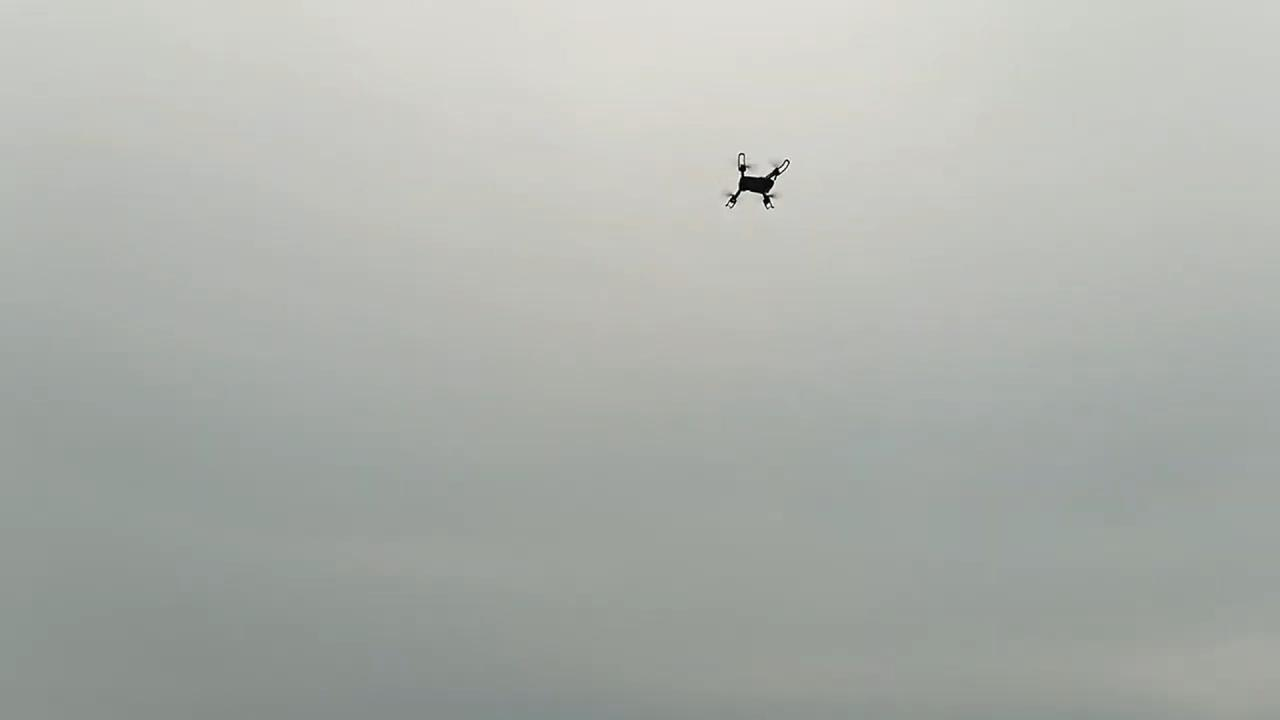Drone: (708, 142, 800, 227)
